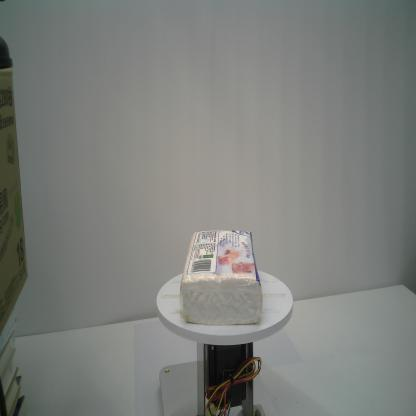Tissue: (176, 227, 264, 328)
